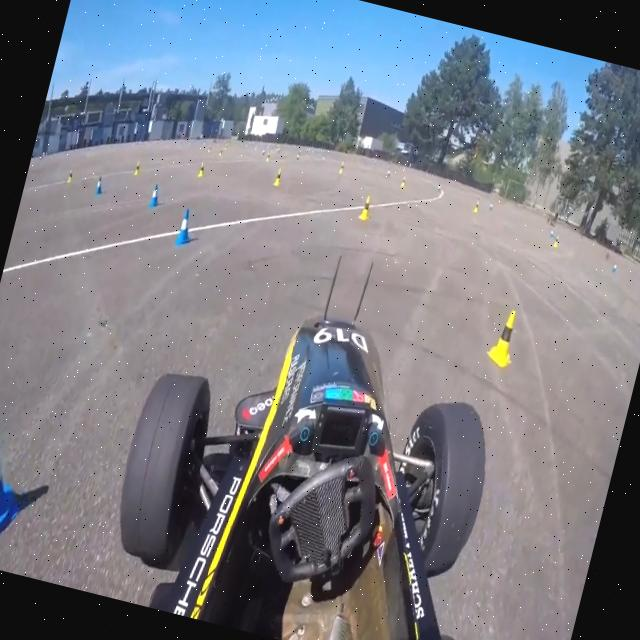blue_cone: (0, 393, 43, 557), (172, 203, 200, 248), (146, 178, 163, 209), (92, 174, 105, 198), (608, 258, 618, 278), (547, 227, 555, 243)
yellow_cone: (480, 294, 528, 372), (357, 190, 375, 222), (63, 166, 77, 186), (272, 165, 284, 188), (130, 158, 142, 178), (196, 160, 208, 178), (550, 231, 560, 250), (472, 197, 482, 216), (399, 175, 408, 189), (337, 161, 345, 176), (264, 151, 272, 164)
